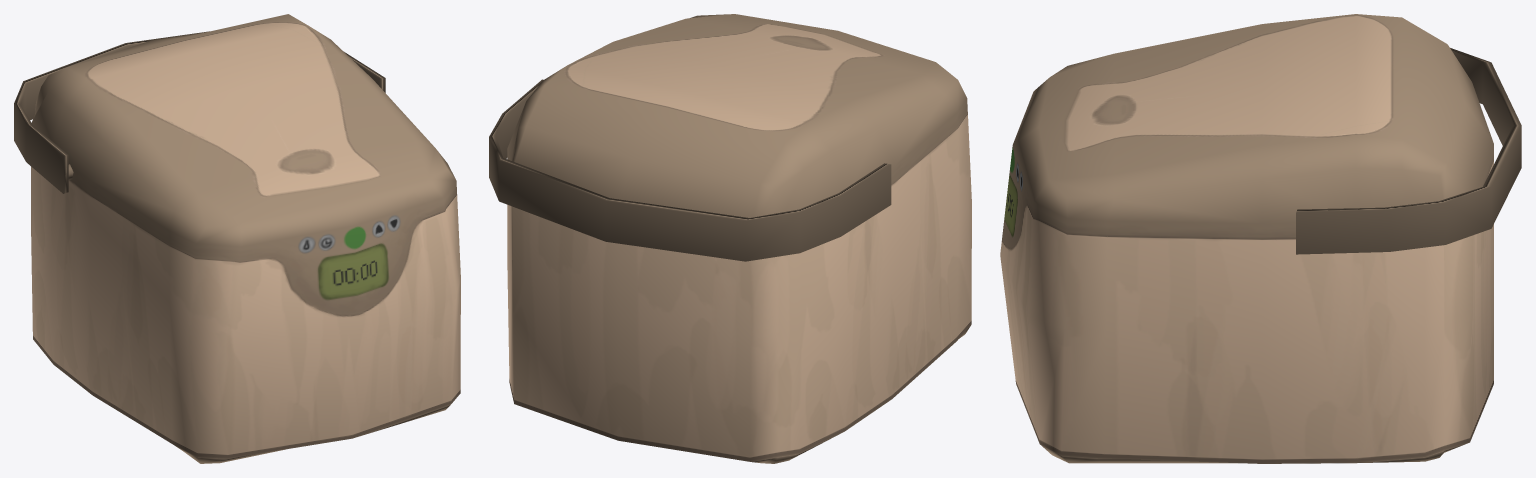
The model's file is Rice_cooker.fbx.
The picture shows the model from 3 angles, left to right: view 1: azimuth 30°, elevation 25°; view 2: azimuth 150°, elevation 25°; view 3: azimuth 270°, elevation 25°; orthographic projection. The views are drawn at different scales.
Visible parts, largest first — view 1: pCube3; view 2: pCube3; view 3: pCube3.
Part boxes in pixels (box(x1,y1,x2,y2)): pCube3: box(14, 14, 460, 463); pCube3: box(489, 14, 971, 463); pCube3: box(1000, 14, 1521, 463).
Size of the model in its own units: 0.3884 by 0.331 by 0.4863.
Materials: 4 (3 with a texture image).
